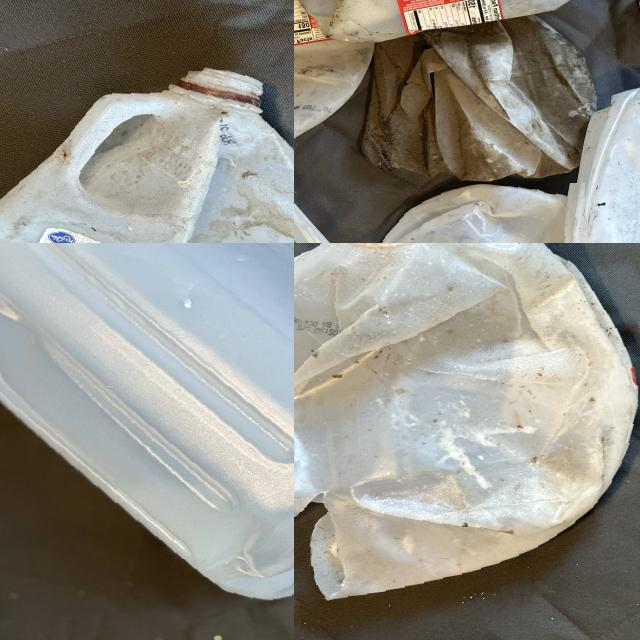milk-jug: (294, 243, 640, 605), (0, 243, 294, 615), (0, 70, 294, 243), (372, 6, 602, 182), (371, 185, 593, 243), (577, 73, 640, 243), (304, 0, 640, 29)
